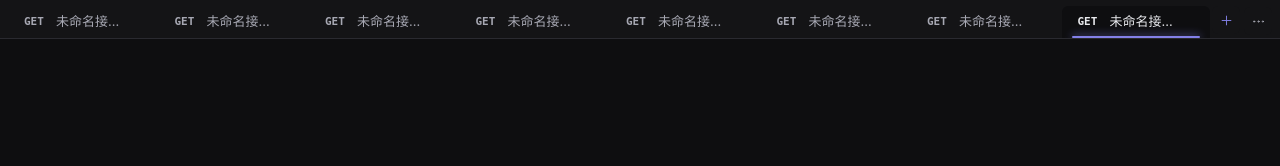
Scenario: TabBar：新建按钮紧跟末尾且不被滚丢 › 下拉行视觉统一：纯文本行 + 危险项标红分隔
The width and height of the screenshot is (1280, 166).
Click the button with class "tab-more" at (1258, 21), box top-left (1244, 7), bottom-right (1272, 35)
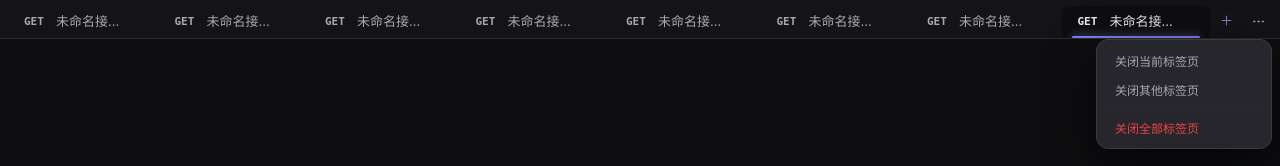
Expected: the menu item with class "miyo-menu-item" reads "关闭全部标签页", top-left (1103, 113), bottom-right (1265, 142)
